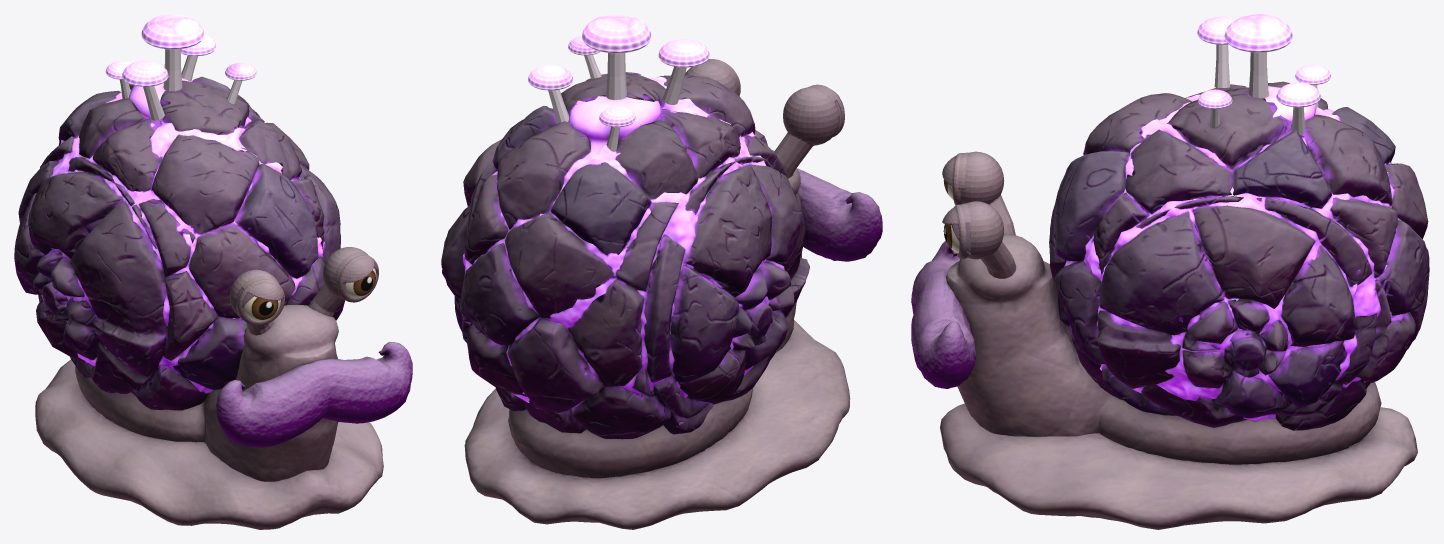
The model's file is rock_snail_spore.glb.
The picture shows the model from 3 angles, left to right: view 1: azimuth 30°, elevation 25°; view 2: azimuth 150°, elevation 25°; view 3: azimuth 270°, elevation 25°; orthographic projection. The views are drawn at different scales.
Visible parts, largest first — view 1: body, soft_body, soft_foot, stalktip_r, stalktip_l; view 2: body, soft_foot, soft_body, stalktip_l, stalktip_r; view 3: body, soft_body, soft_foot, stalktip_r, stalktip_l.
Part boxes in pixels (<box>): body: <box>14,14,345,410</box>; soft_body: <box>75,305,412,481</box>; soft_foot: <box>35,359,383,529</box>; stalktip_r: <box>314,247,378,311</box>; stalktip_l: <box>229,269,284,330</box>; body: <box>441,14,809,439</box>; soft_foot: <box>464,320,850,529</box>; soft_body: <box>508,150,882,478</box>; stalktip_l: <box>774,84,844,169</box>; stalktip_r: <box>685,59,740,95</box>; body: <box>1049,14,1429,430</box>; soft_body: <box>911,234,1381,464</box>; soft_foot: <box>940,403,1417,529</box>; stalktip_r: <box>942,201,1012,272</box>; stalktip_l: <box>942,151,1011,224</box>.
Size of the model in its own units: 0.8324 by 1.21 by 1.26.
22 materials, 14 textured.
